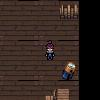Hide: (56, 4, 79, 20)
Obstacle: (43, 86, 71, 100)
Victim: (43, 39, 56, 60)
Win: (61, 60, 78, 80)
